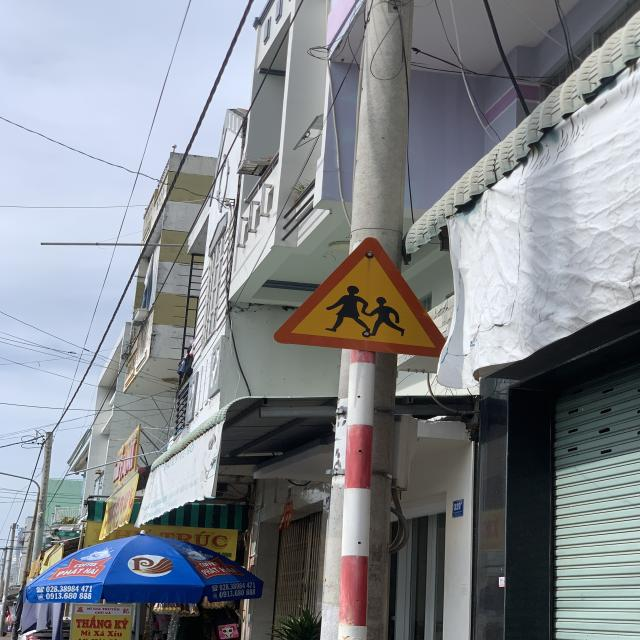Vong_Xuyen: (273, 238, 441, 356)
